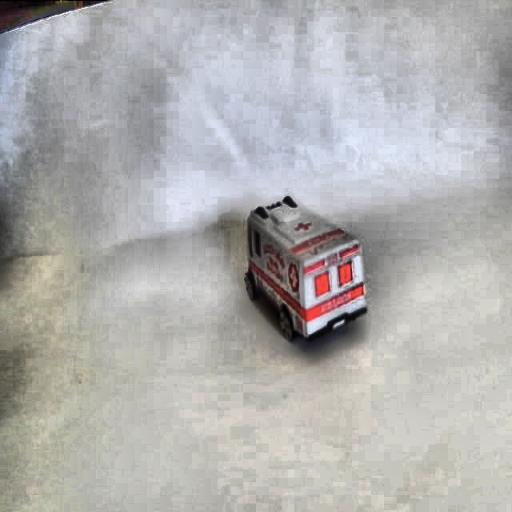ambulance: (243, 194, 367, 343)
